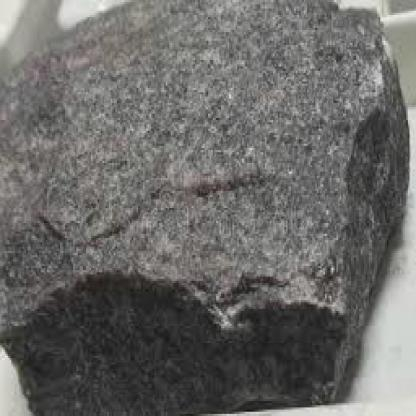Metamorphic_Quartize: (0, 2, 411, 414)
